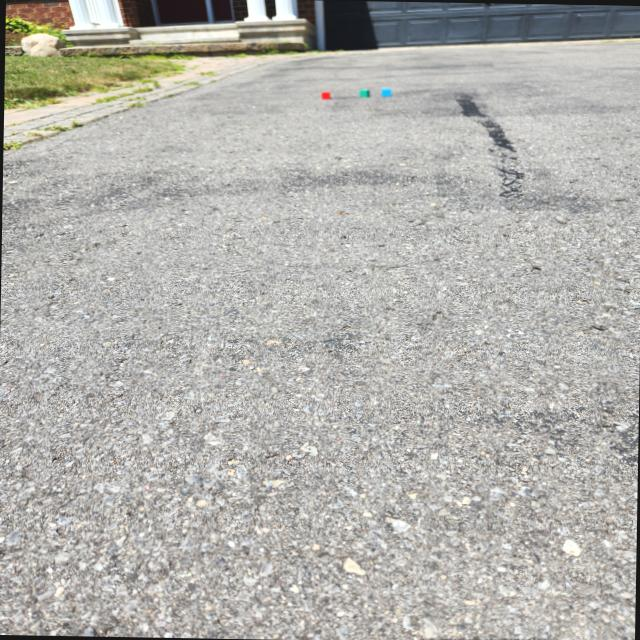bluecube: (381, 88, 392, 98)
green cube: (358, 87, 369, 97)
red cube: (320, 90, 330, 100)
